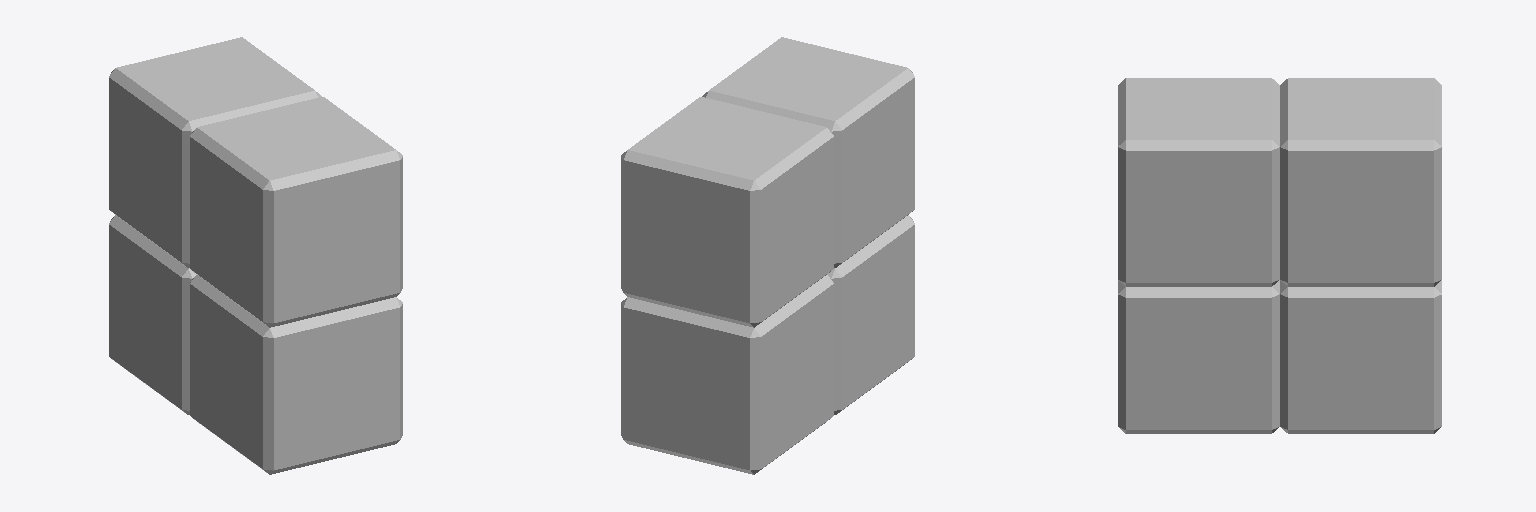
Rendered from fig2.obj.
3 views of the same model, side by side, from view 1: azimuth 30°, elevation 25°; view 2: azimuth 150°, elevation 25°; view 3: azimuth 270°, elevation 25° (orthographic).
Visible parts, largest first — view 1: Cube.001, Cube, Cube.003, Cube.002; view 2: Cube.003, Cube.002, Cube.001, Cube; view 3: Cube.001, Cube.003, Cube, Cube.002.
Boxes of the visible parts, x1=… form: Cube.001: x1=190, y1=97, x2=402, y2=327; Cube: x1=190, y1=275, x2=402, y2=474; Cube.003: x1=109, y1=37, x2=321, y2=267; Cube.002: x1=109, y1=215, x2=196, y2=414; Cube.003: x1=621, y1=97, x2=833, y2=327; Cube.002: x1=621, y1=275, x2=833, y2=474; Cube.001: x1=702, y1=37, x2=914, y2=267; Cube: x1=827, y1=215, x2=914, y2=414; Cube.001: x1=1118, y1=78, x2=1279, y2=286; Cube.003: x1=1280, y1=78, x2=1441, y2=286; Cube: x1=1118, y1=280, x2=1279, y2=433; Cube.002: x1=1280, y1=280, x2=1441, y2=433.
Bounding box in the file's own units: 2 × 4 × 4.